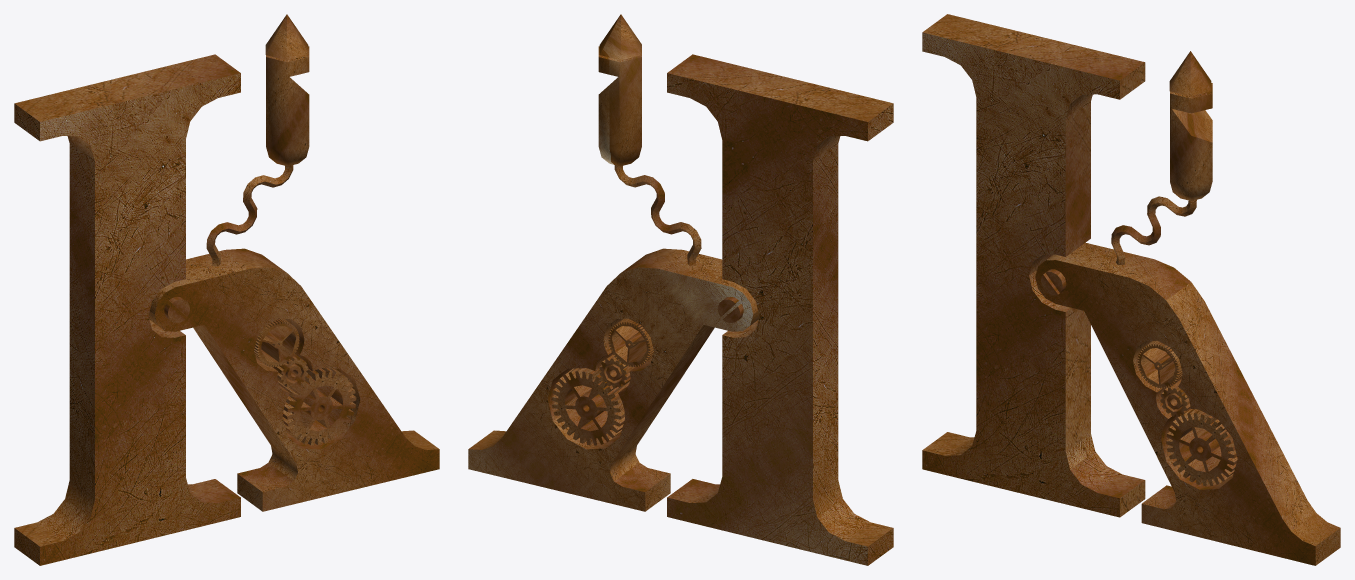
The picture shows the model from 3 angles, left to right: view 1: azimuth 30°, elevation 25°; view 2: azimuth 150°, elevation 25°; view 3: azimuth 330°, elevation 25°; orthographic projection.
Visible parts, largest first — view 1: K, Cogwheel_307, Cogwheel_294, Spiral_006, Cogwheel_303; view 2: K, Cogwheel_307, Cogwheel_294, Spiral_006, Cogwheel_303; view 3: K, Cogwheel_307, Cogwheel_294, Spiral_006, Cogwheel_303, Screw_862.
Part boxes in pixels (x1,y1,x2,y2): K: (14,14,439,565); Cogwheel_307: (278,368,356,445); Cogwheel_294: (254,318,299,367); Spiral_006: (206,165,293,266); Cogwheel_303: (273,354,308,388); K: (468,14,893,565); Cogwheel_307: (551,368,629,445); Cogwheel_294: (608,318,653,366); Spiral_006: (614,165,701,266); Cogwheel_303: (599,354,634,388); K: (922,14,1340,565); Cogwheel_307: (1166,409,1237,486); Cogwheel_294: (1137,340,1182,388); Spiral_006: (1111,196,1196,264); Cogwheel_303: (1160,379,1190,416); Screw_862: (1041,269,1066,295).
Bounding box in the file's own units: 90.17 × 104 × 12.89.
Materials: 1 (1 with a texture image).
